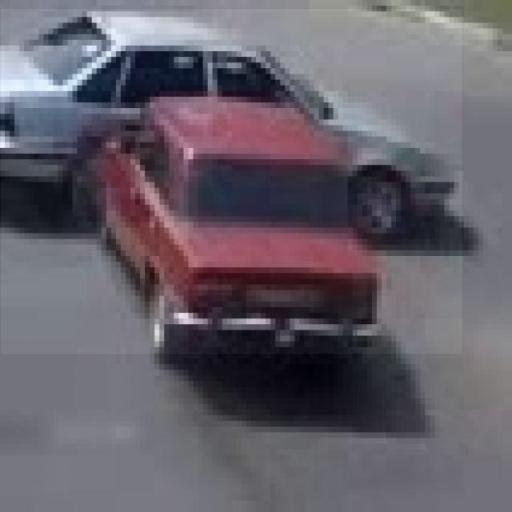小汽车撞小汽车: (1, 9, 462, 354)
